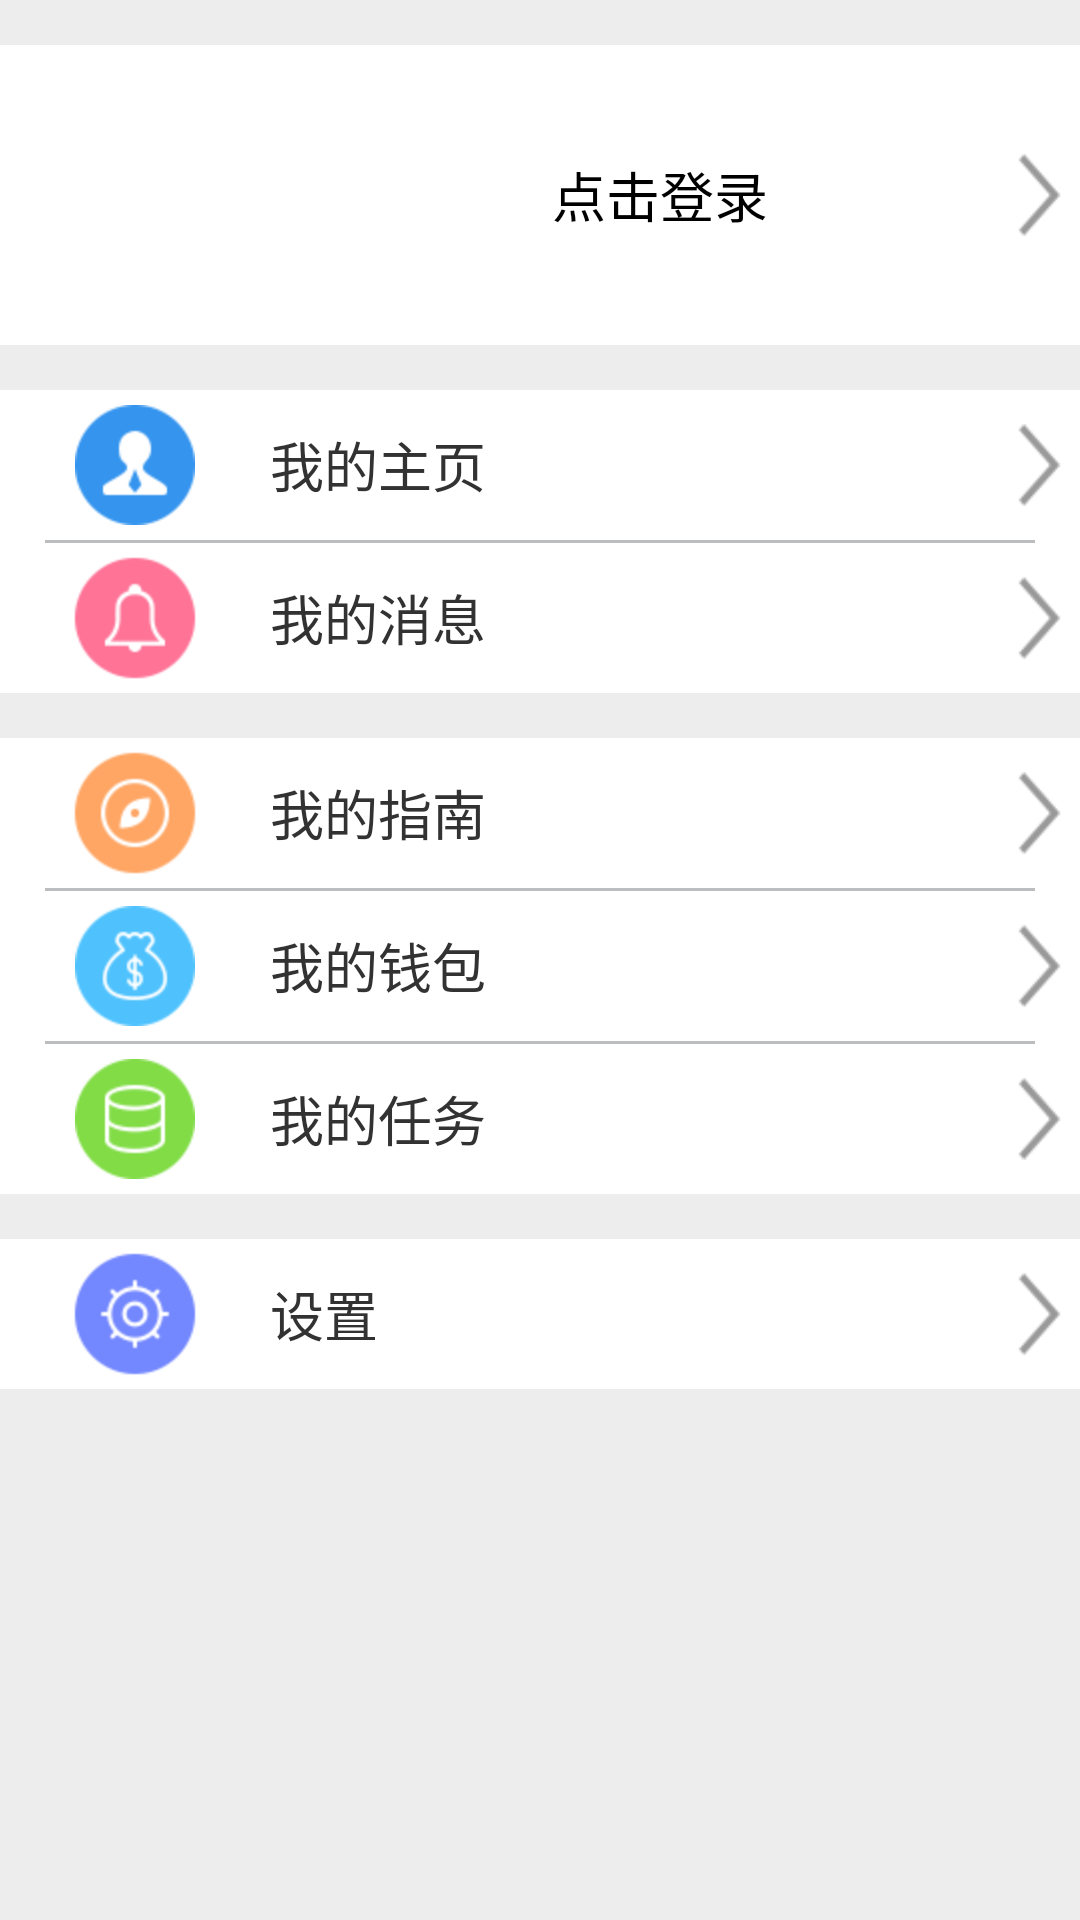

Named icons in this screenshot (1080w x 1920h) and their bounding boxes, {"left": x1, "top": y1, "right": x2, "bottom": y2}:
message: {"left": 74, "top": 557, "right": 196, "bottom": 679}
next: {"left": 1019, "top": 154, "right": 1060, "bottom": 236}, {"left": 1019, "top": 424, "right": 1060, "bottom": 506}, {"left": 1019, "top": 577, "right": 1060, "bottom": 659}, {"left": 1019, "top": 772, "right": 1060, "bottom": 854}, {"left": 1019, "top": 925, "right": 1060, "bottom": 1007}, {"left": 1019, "top": 1078, "right": 1060, "bottom": 1160}, {"left": 1019, "top": 1273, "right": 1060, "bottom": 1355}
setting: {"left": 74, "top": 1253, "right": 196, "bottom": 1375}
wallet: {"left": 75, "top": 906, "right": 195, "bottom": 1026}
